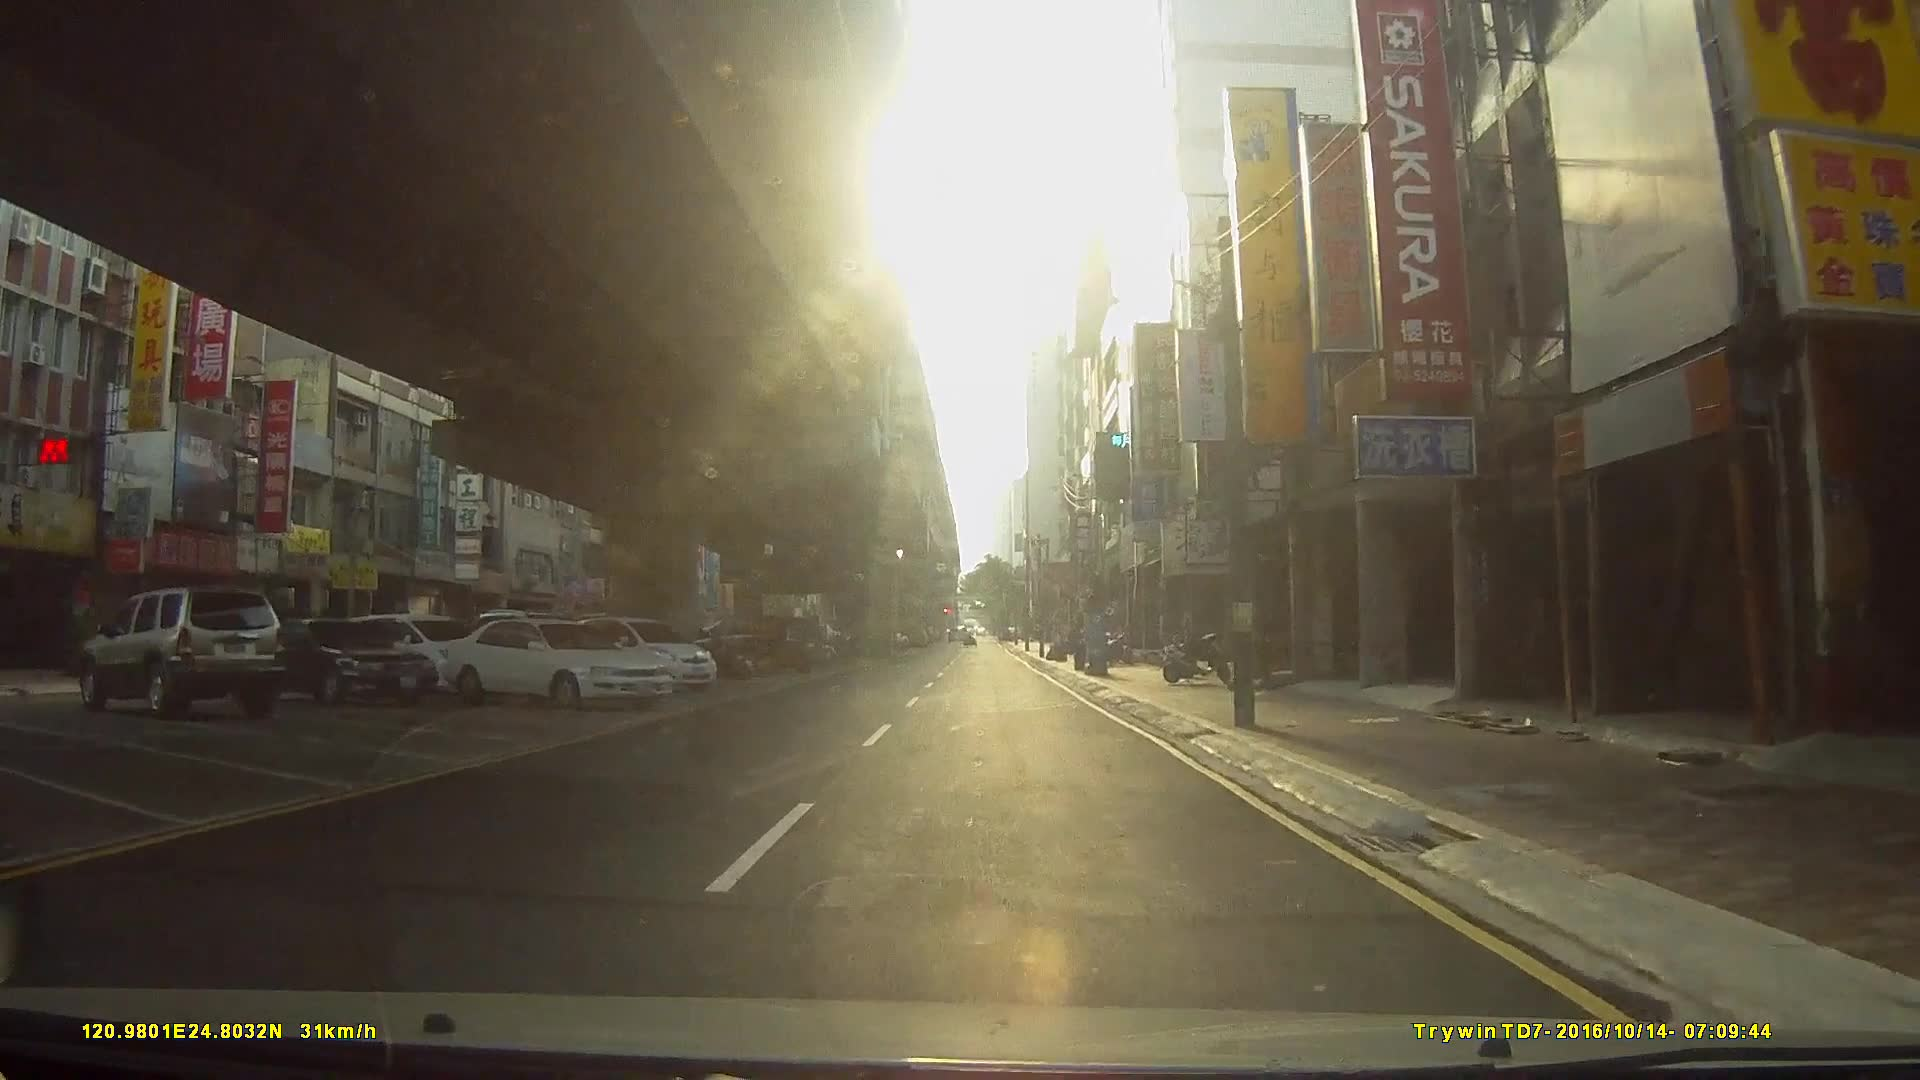vehicle: (74, 587, 285, 715), (436, 615, 676, 709), (214, 618, 434, 709), (560, 616, 716, 698)
